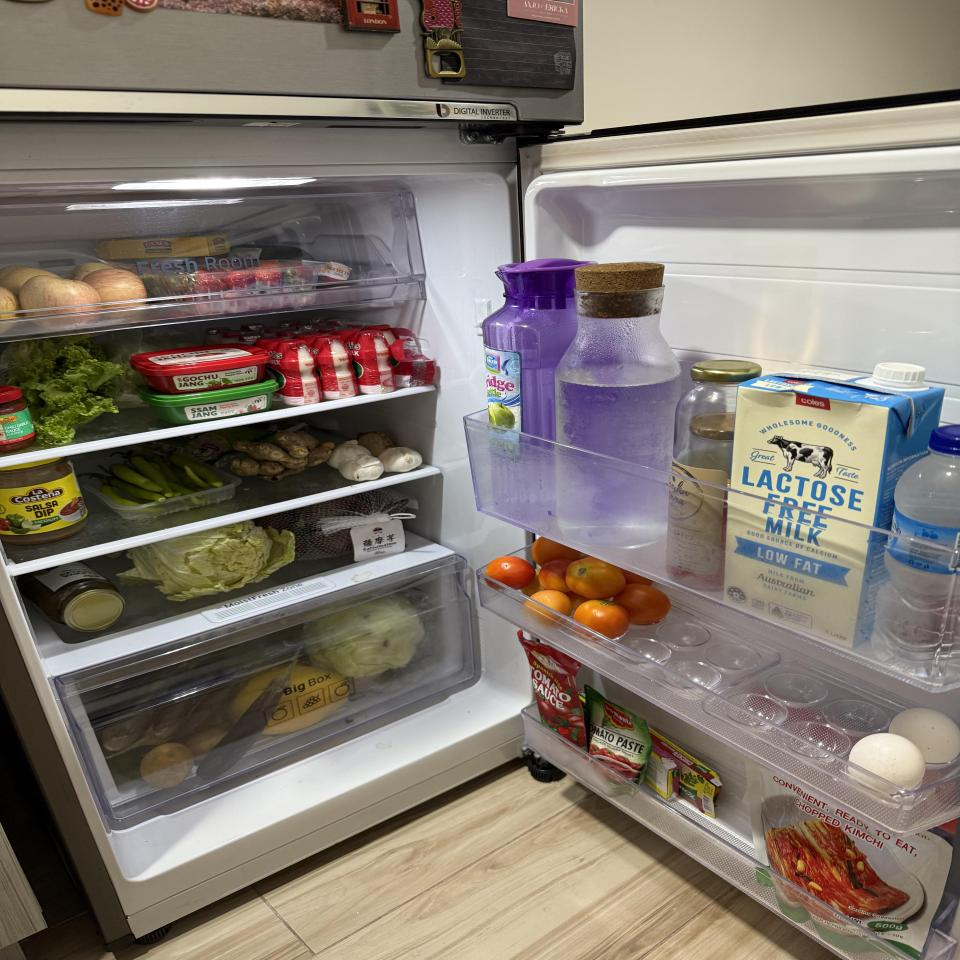Huevos: (830, 706, 960, 803)
Leche: (722, 361, 944, 650)
Lechuga/Endivia: (6, 340, 125, 446), (302, 588, 430, 678)
Manzana: (17, 275, 103, 332), (85, 270, 147, 318)
Tomate: (483, 538, 674, 643)
strawberries: (154, 266, 317, 307)
